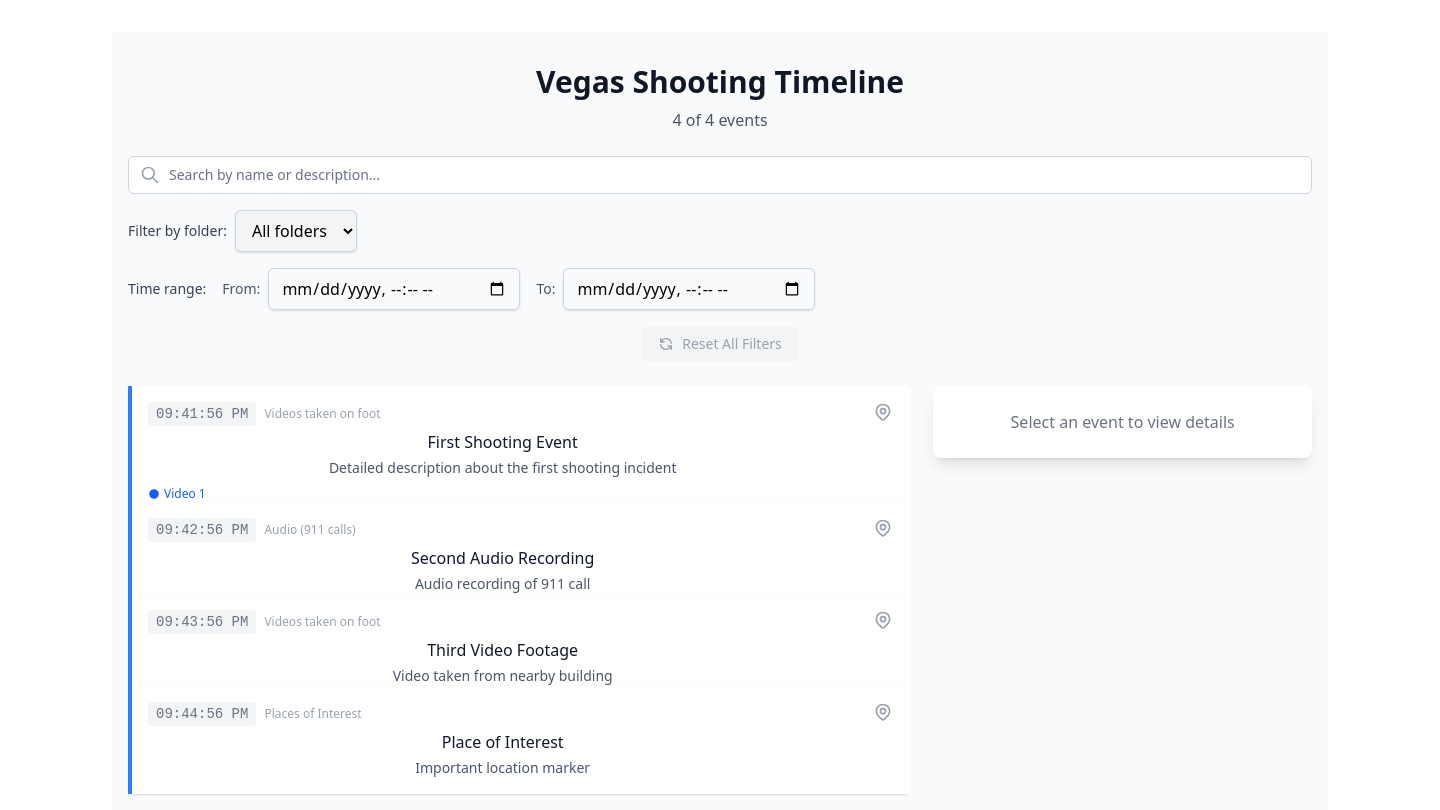
Test: Timeline - Search Filter with Debounce › clears filter when search input is cleared
Check: the heading "First Shooting Event" is shown, box [428,431,578,453]
# Apply search filter
Type "shooting" into the field with placeholder "Search by name or description...". click: (720, 175)
box: [128,156,1312,194]
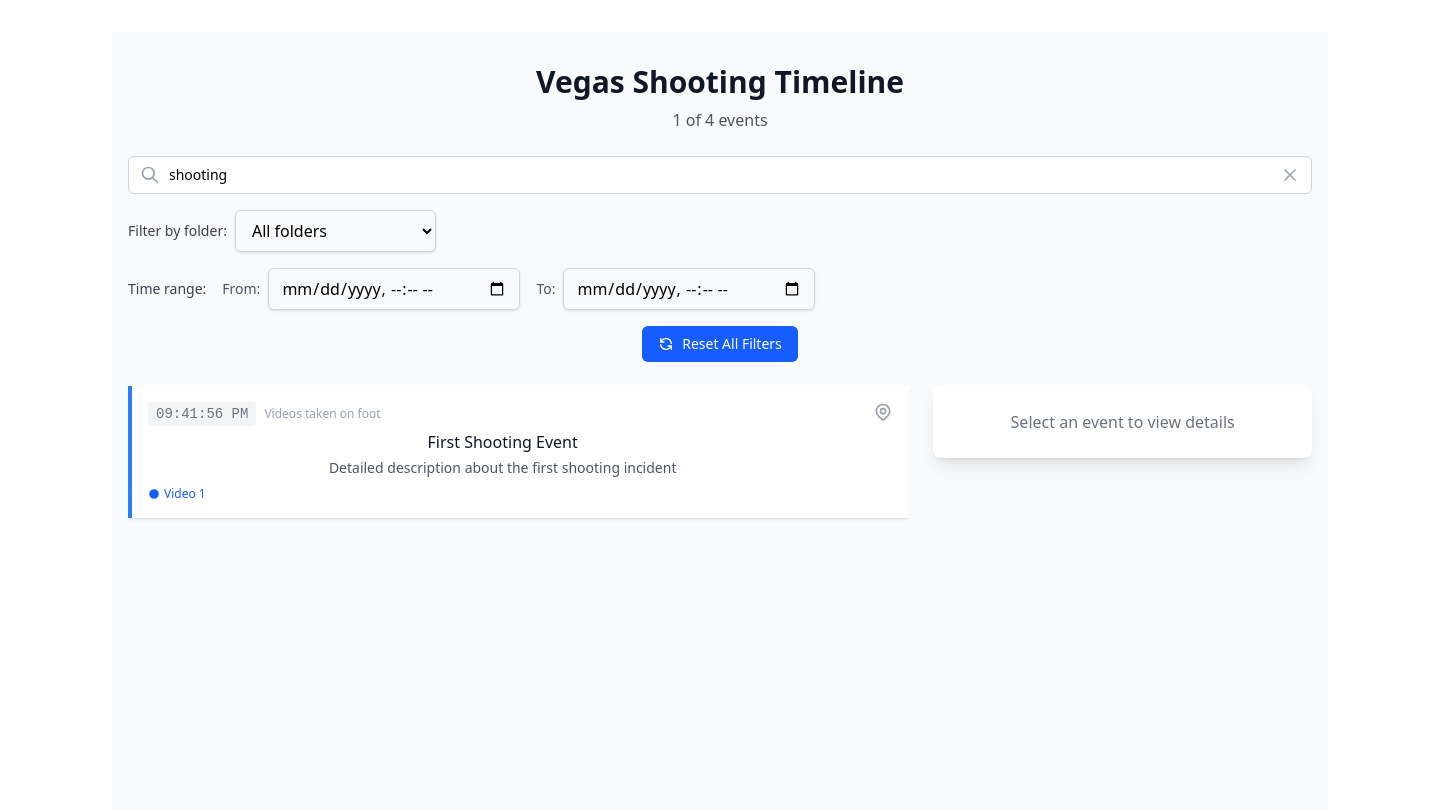
Check: the heading "Second Audio Recording" is gone
# Clear the search by clicking clear button
Click the button named "clear search". click: (1296, 175)
box: [1280,156,1312,194]
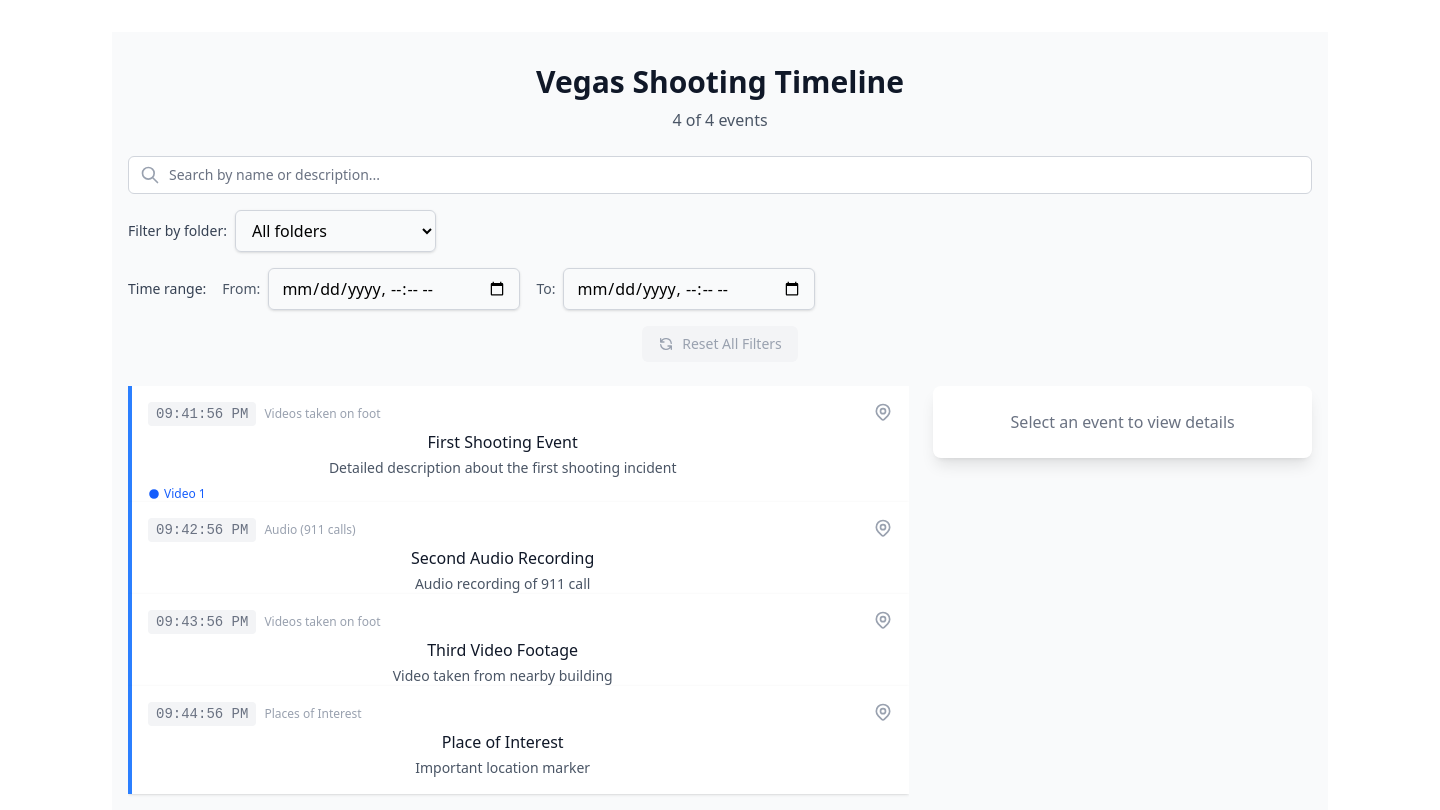
Check: the heading "Second Audio Recording" is shown, box [411,547,594,569]
Check: the heading "Third Video Footage" is shown, box [427,639,578,661]
Check: the heading "Place of Interest" is shown, box [442,731,564,753]
